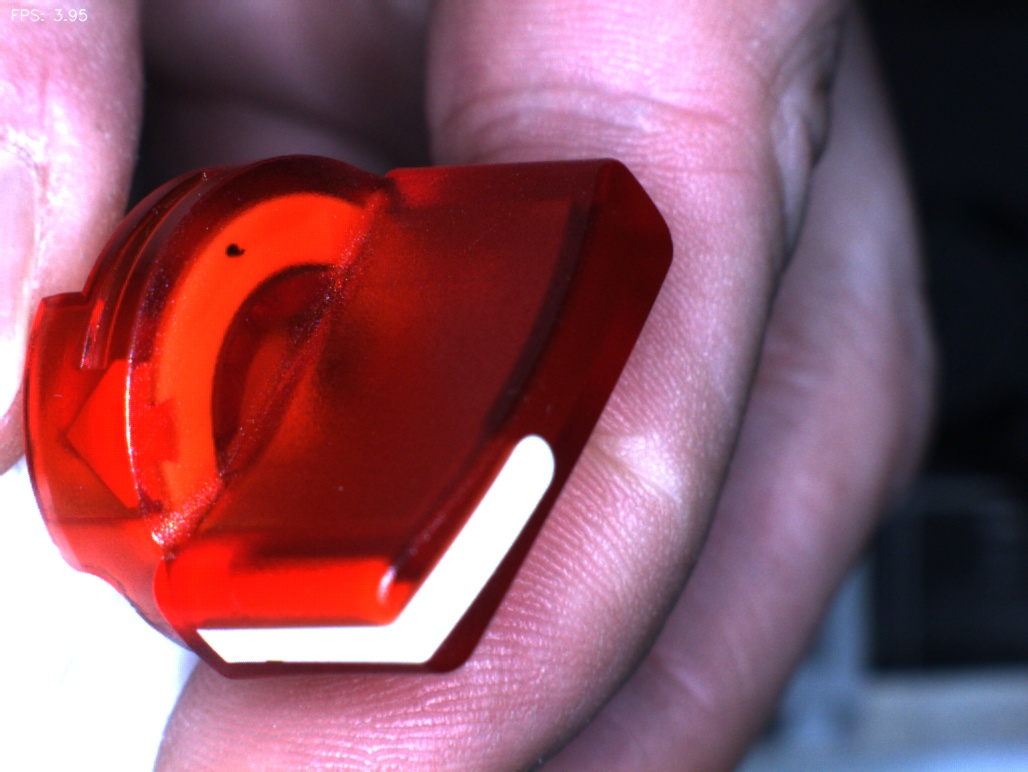PointNoir: (185, 205, 272, 292)
